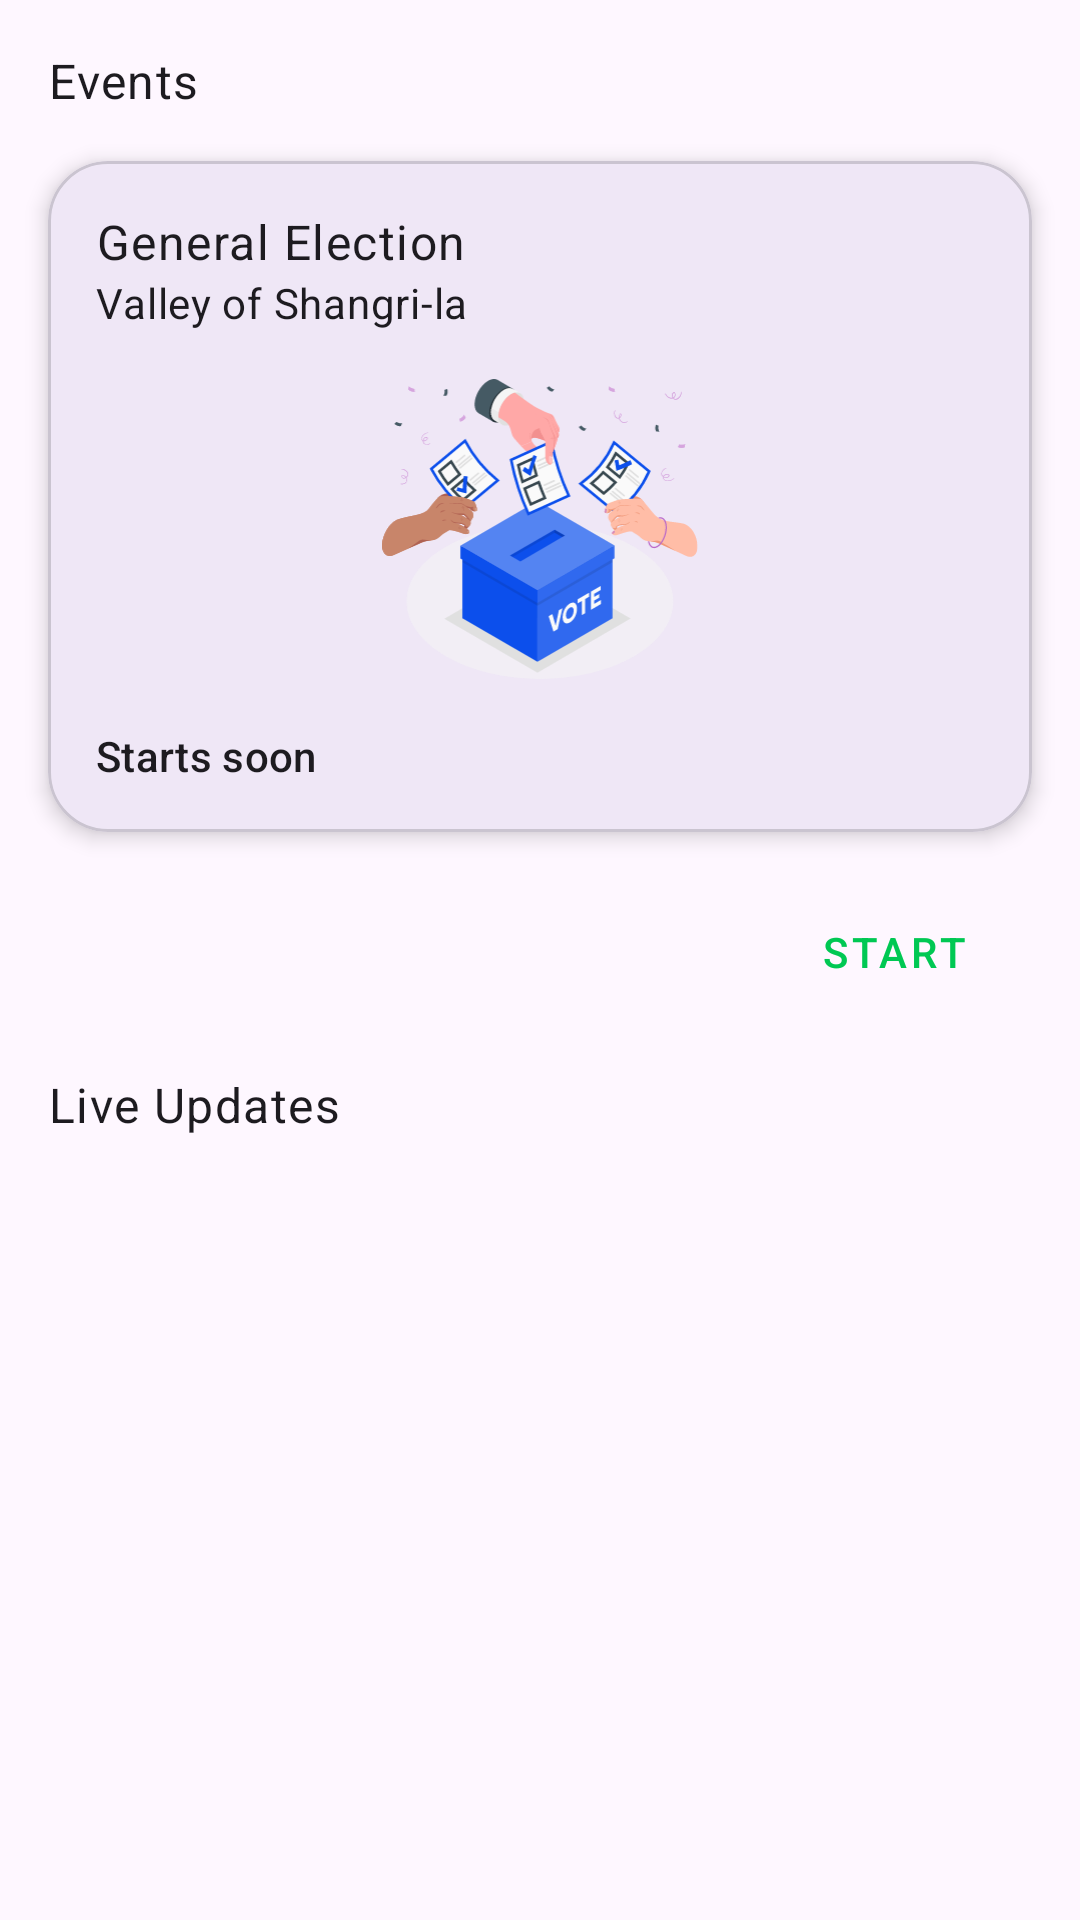

Screen size 1080*1920. Icon name, then its box in pixels as (x1, y1, x2, y2):
illustration event: (382, 379, 697, 662)
